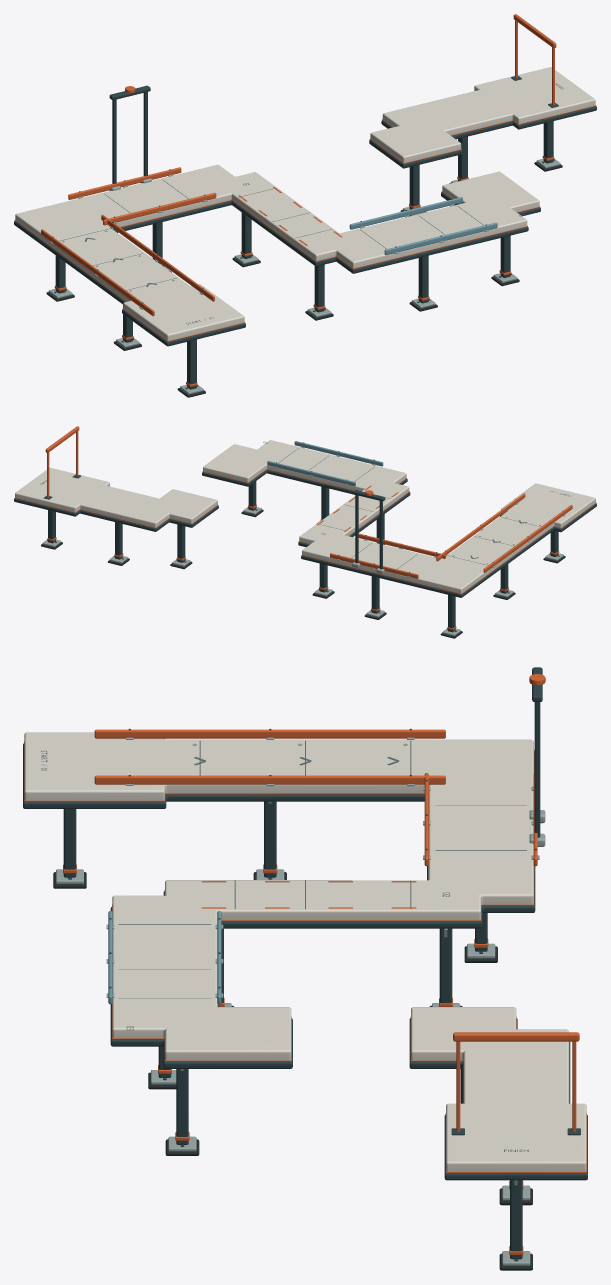
The model's file is track-refined.glb.
The picture shows the model from 3 angles, top to bottom: view 1: azimuth 30°, elevation 25°; view 2: azimuth 150°, elevation 25°; view 3: azimuth 270°, elevation 25°; orthographic projection. The views are drawn at different scales.
Visible parts, largest first — view 1: TrackStatic; view 2: TrackStatic; view 3: TrackStatic.
Boxes of the visible parts, <box> form: TrackStatic: <box>14,14,596,397</box>; TrackStatic: <box>14,426,596,638</box>; TrackStatic: <box>23,667,587,1270</box>.
Bounding box in the file's own units: 29.08 × 8.54 × 16.08.
